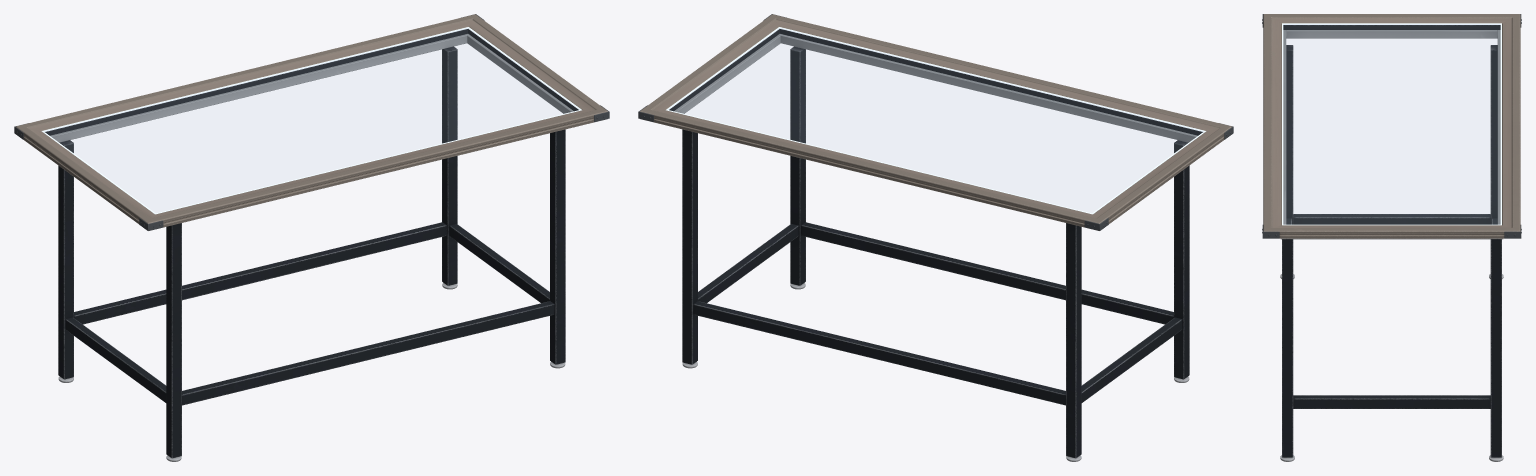
3 renders of one model, left to right at view 1: azimuth 30°, elevation 25°; view 2: azimuth 150°, elevation 25°; view 3: azimuth 270°, elevation 25°, orthographic. The views are drawn at different scales.
Parts seen in each view (by area): view 1: light-table-frame; view 2: light-table-frame; view 3: light-table-frame.
Boxes of the visible parts, bbox=[...] form: light-table-frame: bbox=[14, 14, 609, 461]; light-table-frame: bbox=[638, 14, 1233, 461]; light-table-frame: bbox=[1262, 14, 1521, 461].
Bounding box in the file's own units: 1.81 × 0.95 × 0.9088.
3 materials, 1 textured.
